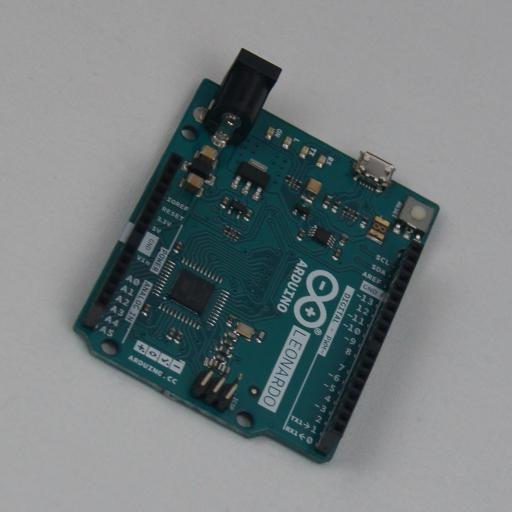Arduino Leonardo: (73, 48, 439, 464)
